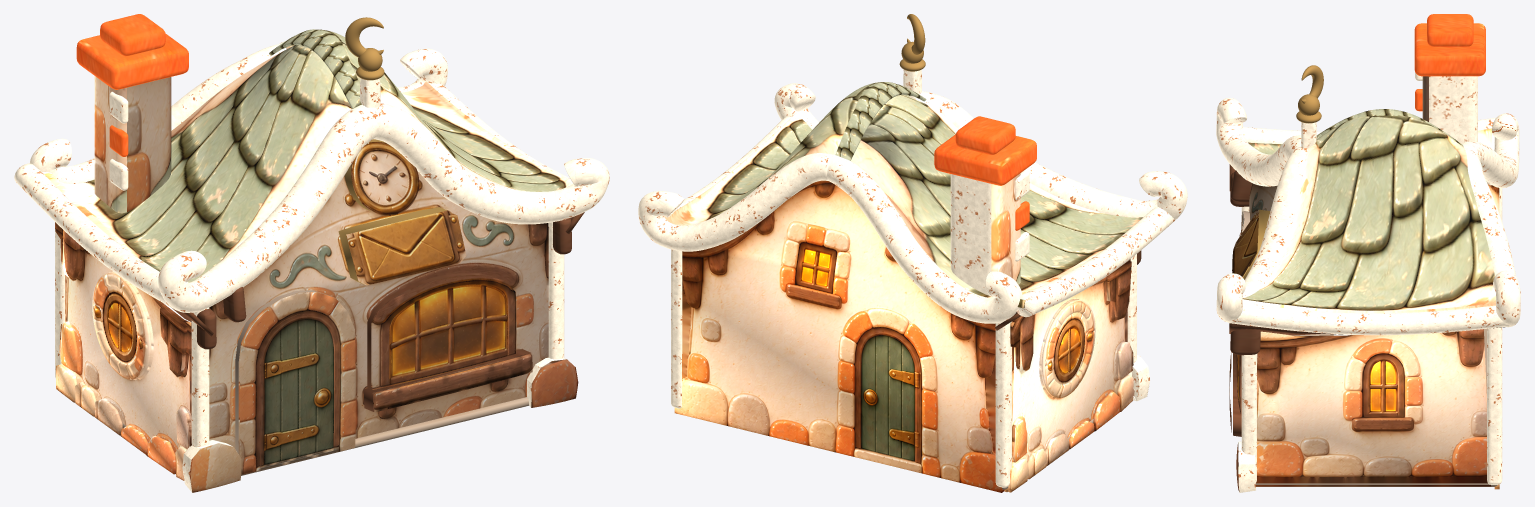
Rendered from B1_邮局_分享包版.glb.
The picture shows the model from 3 angles, left to right: view 1: azimuth 30°, elevation 25°; view 2: azimuth 150°, elevation 25°; view 3: azimuth 270°, elevation 25°; orthographic projection. The views are drawn at different scales.
Visible parts, largest first — view 1: V5_connected_roof, GEO_facade, V4_round_sculpted_front_eave, GEO_window, V4_circle_side_wall, GEO_door, GEO_door_arch, V4_chimney_body, V5_connected_roof.001, GEO_sign, V4_rounded_rear_eave, V5_continuous_side_fascia (+23 smaller); view 2: V4_fitted_rear_wall, V5_connected_roof, V4_rounded_rear_eave, V4_circle_side_wall, V4_chimney_body, V5_connected_roof.001, V4_round_sculpted_front_eave, V5_continuous_side_fascia, V4_chimney_cap, V4_joined_wall_corner.001, V4_round_window, V4_joined_wall_corner.003 (+7 smaller); view 3: V5_connected_roof.001, V4_arch_side_wall, V4_round_sculpted_front_eave, V4_rounded_rear_eave, V5_continuous_side_fascia.001, V4_chimney_body, V4_chimney_cap, V4_joined_wall_corner.003, V4_joined_wall_corner.002, V4_chimney_cap.001, GEO_sign, V5_continuous_side_fascia (+11 smaller).
Boxes of the visible parts, left/top/right/bottom form: V5_connected_roof: left=42, top=45, right=351, bottom=282; GEO_facade: left=209, top=141, right=548, bottom=454; V4_round_sculpted_front_eave: left=158, top=103, right=609, bottom=312; GEO_window: left=372, top=275, right=516, bottom=402; V4_circle_side_wall: left=65, top=245, right=191, bottom=454; GEO_door: left=261, top=314, right=333, bottom=467; GEO_door_arch: left=239, top=292, right=355, bottom=474; V4_chimney_body: left=94, top=76, right=171, bottom=213; V5_connected_roof.001: left=286, top=29, right=573, bottom=191; GEO_sign: left=346, top=210, right=466, bottom=285; V4_rounded_rear_eave: left=30, top=41, right=447, bottom=183; V5_continuous_side_fascia: left=14, top=163, right=174, bottom=309; V4_fitted_rear_wall: left=674, top=180, right=1004, bottom=492; V5_connected_roof: left=851, top=94, right=1142, bottom=308; V4_rounded_rear_eave: left=638, top=153, right=1022, bottom=323; V4_circle_side_wall: left=1004, top=262, right=1127, bottom=491; V4_chimney_body: left=950, top=173, right=1020, bottom=295; V5_connected_roof.001: left=664, top=82, right=909, bottom=225; V4_round_sculpted_front_eave: left=774, top=83, right=1187, bottom=220; V5_continuous_side_fascia: left=1016, top=207, right=1174, bottom=317; V4_chimney_cap: left=934, top=134, right=1036, bottom=185; V4_joined_wall_corner.001: left=995, top=321, right=1011, bottom=487; V4_round_window: left=1041, top=299, right=1095, bottom=397; V4_joined_wall_corner.003: left=671, top=249, right=682, bottom=408; V5_connected_roof.001: left=1242, top=115, right=1495, bottom=313; V4_arch_side_wall: left=1255, top=329, right=1491, bottom=486; V4_round_sculpted_front_eave: left=1216, top=97, right=1307, bottom=322; V4_rounded_rear_eave: left=1461, top=113, right=1520, bottom=327; V5_continuous_side_fascia.001: left=1228, top=303, right=1508, bottom=335; V4_chimney_body: left=1422, top=76, right=1477, bottom=143; V4_chimney_cap: left=1414, top=23, right=1485, bottom=76; V4_joined_wall_corner.003: left=1487, top=327, right=1502, bottom=484; V4_joined_wall_corner.002: left=1241, top=354, right=1256, bottom=482; V4_chimney_cap.001: left=1427, top=14, right=1473, bottom=46; GEO_sign: left=1232, top=210, right=1259, bottom=276; V5_continuous_side_fascia: left=1241, top=117, right=1495, bottom=144.
Bounding box in the file's own units: 5.45 × 4.61 × 3.57.
Materials: 14 (12 with a texture image).
